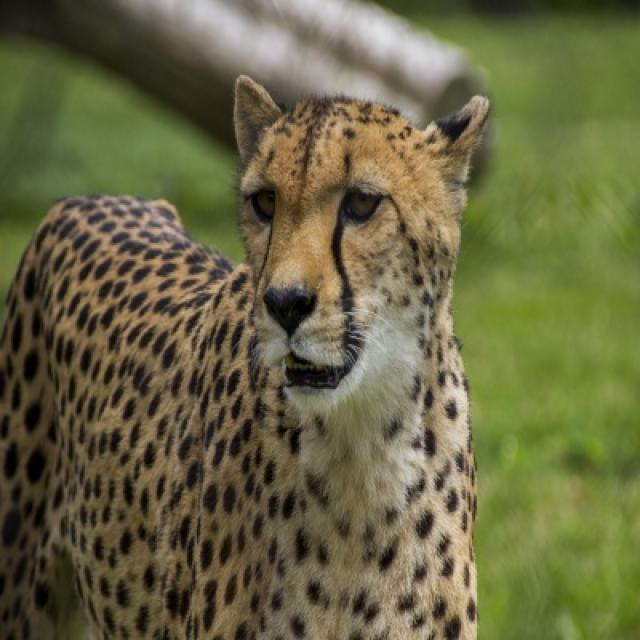Cheetah: (0, 77, 488, 638)
